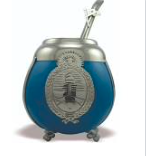mate: (22, 33, 117, 144)
